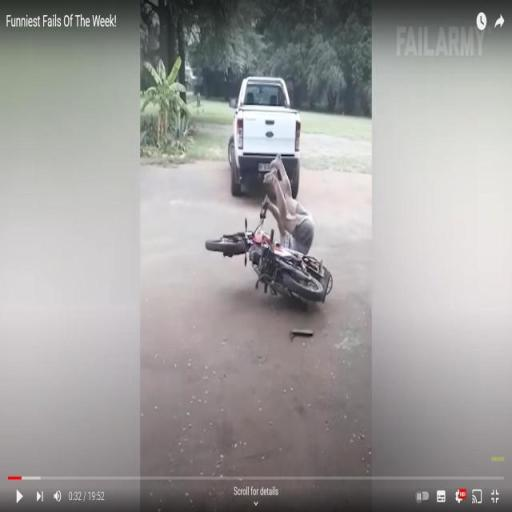Fall: (261, 149, 316, 261)
